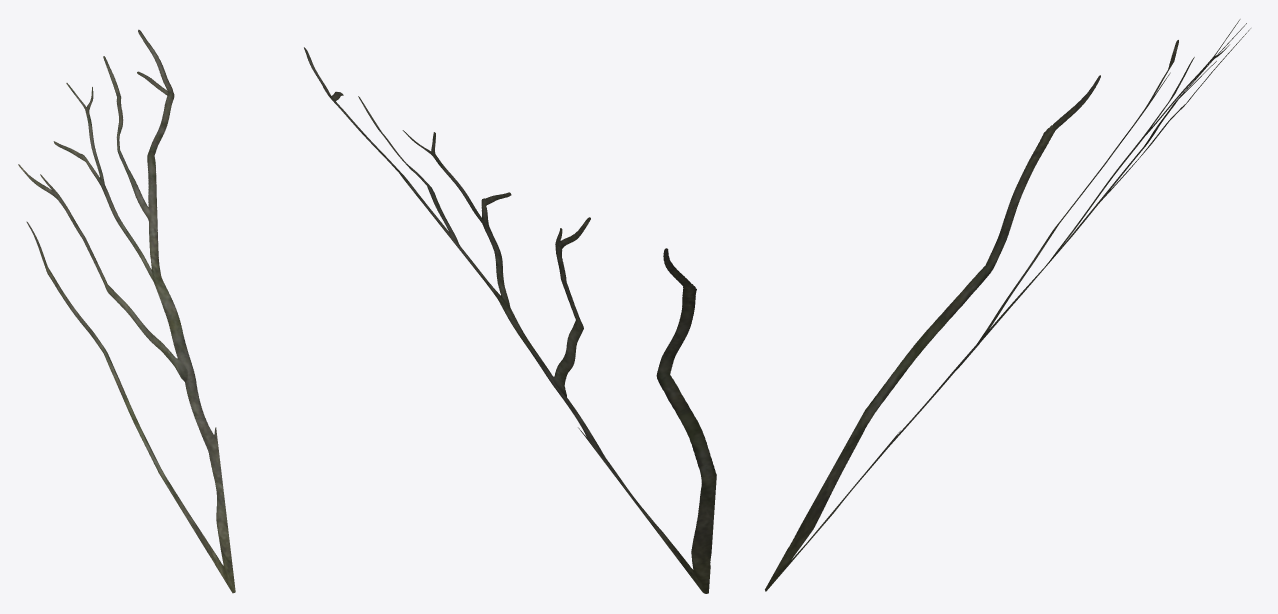
The model's file is TI_Tree_Branch_Part_01.fbx.
3 renders of one model, left to right at view 1: azimuth 30°, elevation 25°; view 2: azimuth 150°, elevation 25°; view 3: azimuth 270°, elevation 25°, orthographic. The views are drawn at different scales.
Parts seen in each view (by area): view 1: TI_Tree_Branch_Part_01; view 2: TI_Tree_Branch_Part_01; view 3: TI_Tree_Branch_Part_01.
Boxes of the visible parts, x1=… form: TI_Tree_Branch_Part_01: x1=18, y1=29, x2=235, y2=593; TI_Tree_Branch_Part_01: x1=304, y1=47, x2=716, y2=593; TI_Tree_Branch_Part_01: x1=765, y1=19, x2=1250, y2=591.
Bounding box in the file's own units: 0.6533 × 1.35 × 0.9623.
